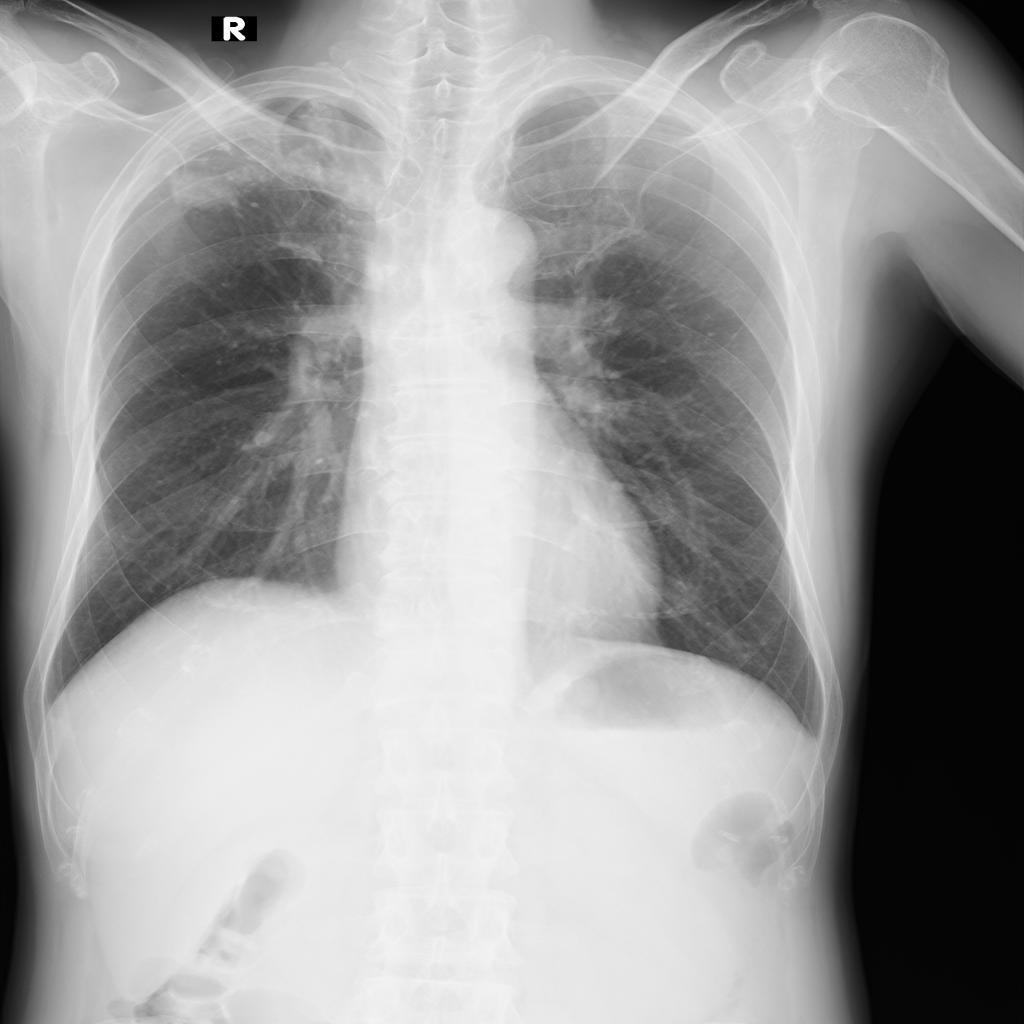Nodule: (176, 174, 235, 211)
